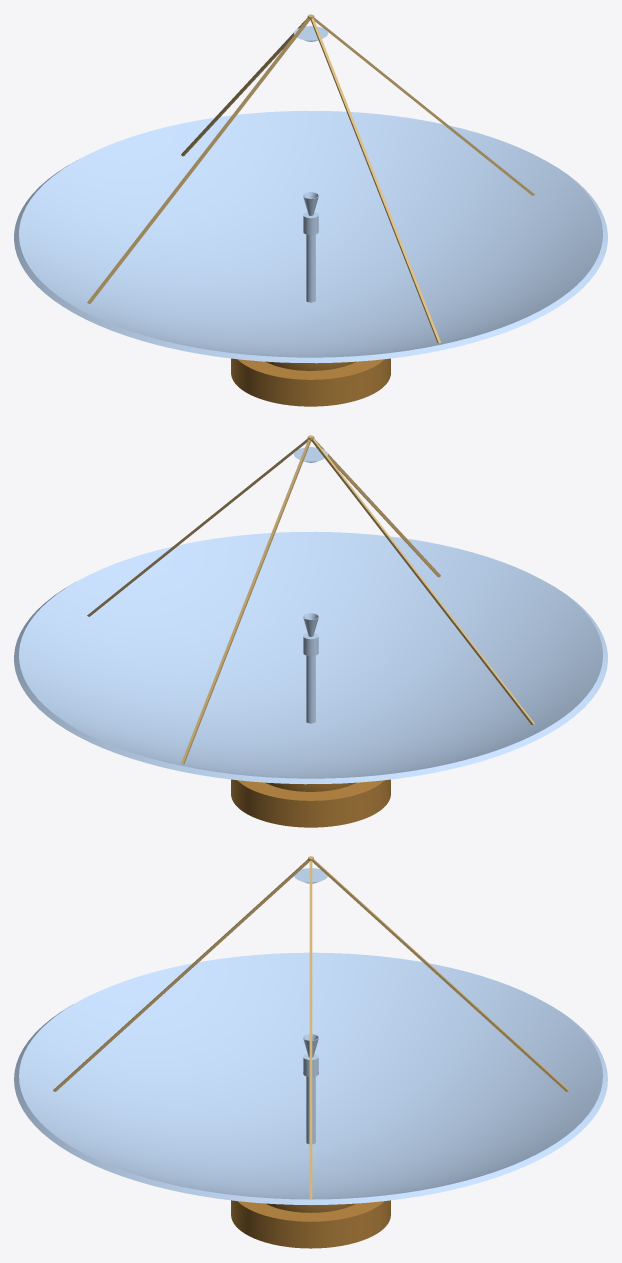
File: Radio_Dish_Earth.glb
3 views of the same model, one above another, from view 1: azimuth 30°, elevation 25°; view 2: azimuth 150°, elevation 25°; view 3: azimuth 270°, elevation 25° (orthographic).
Parts seen in each view (by area): view 1: RadioDish-Earth_LOD0, RadioDish-Earth-Base_LOD0; view 2: RadioDish-Earth_LOD0, RadioDish-Earth-Base_LOD0; view 3: RadioDish-Earth_LOD0, RadioDish-Earth-Base_LOD0.
Part boxes in pixels (<box>): RadioDish-Earth_LOD0: <box>14,14,607,363</box>; RadioDish-Earth-Base_LOD0: <box>231,358,390,406</box>; RadioDish-Earth_LOD0: <box>14,435,607,784</box>; RadioDish-Earth-Base_LOD0: <box>231,779,390,827</box>; RadioDish-Earth_LOD0: <box>14,856,607,1205</box>; RadioDish-Earth-Base_LOD0: <box>231,1200,390,1248</box>.
Size of what is drawn, in the model's own units: 15.83 by 10.5 by 15.83.
